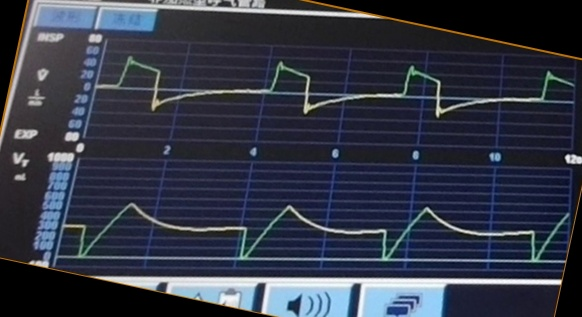Flow: (104, 53, 555, 141)
Leakage Volume: (71, 189, 560, 272)
